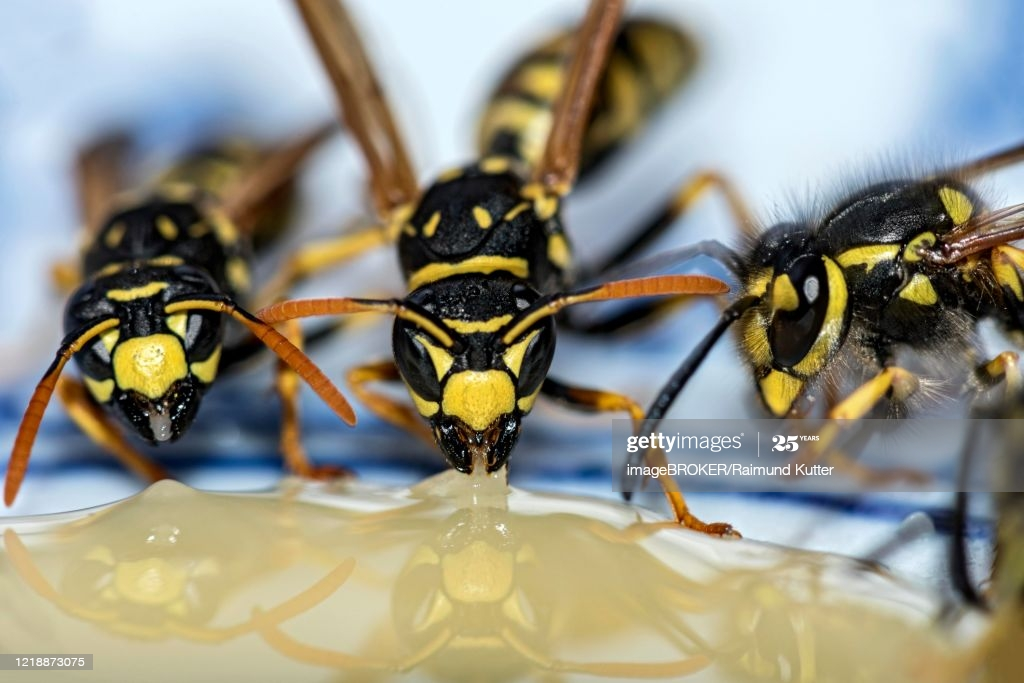chax: (54, 212, 279, 480), (702, 191, 966, 412), (363, 246, 589, 492)
